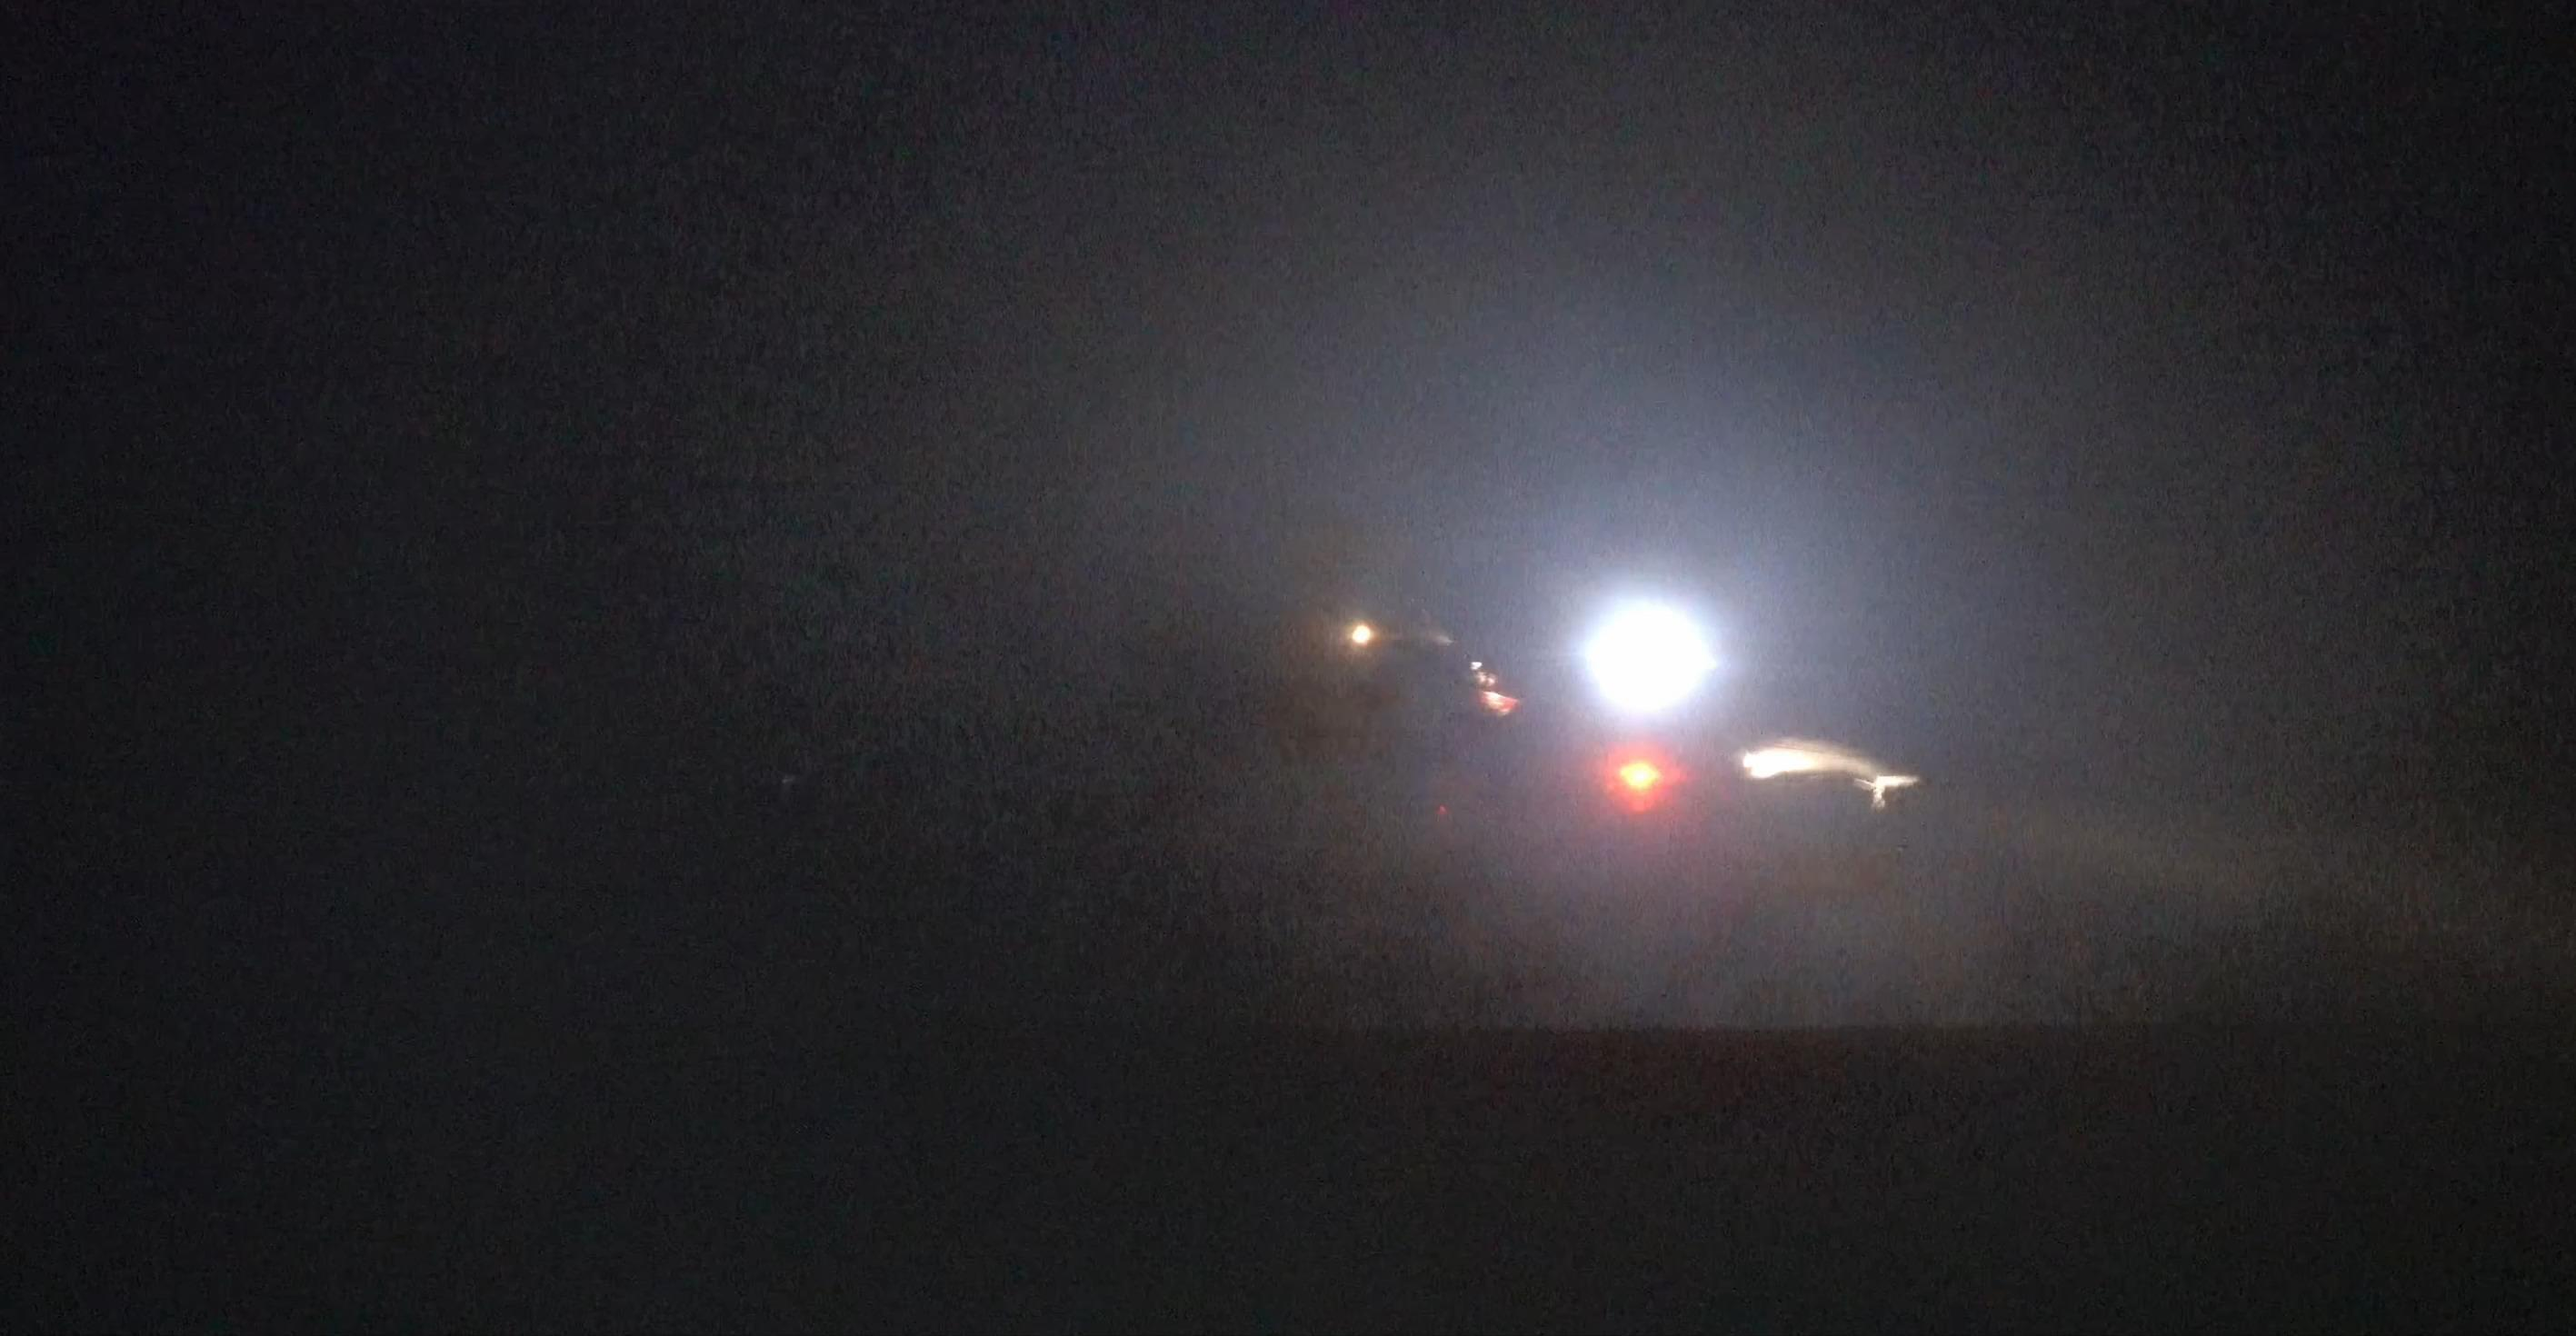Plane: (1319, 584, 1946, 833)
